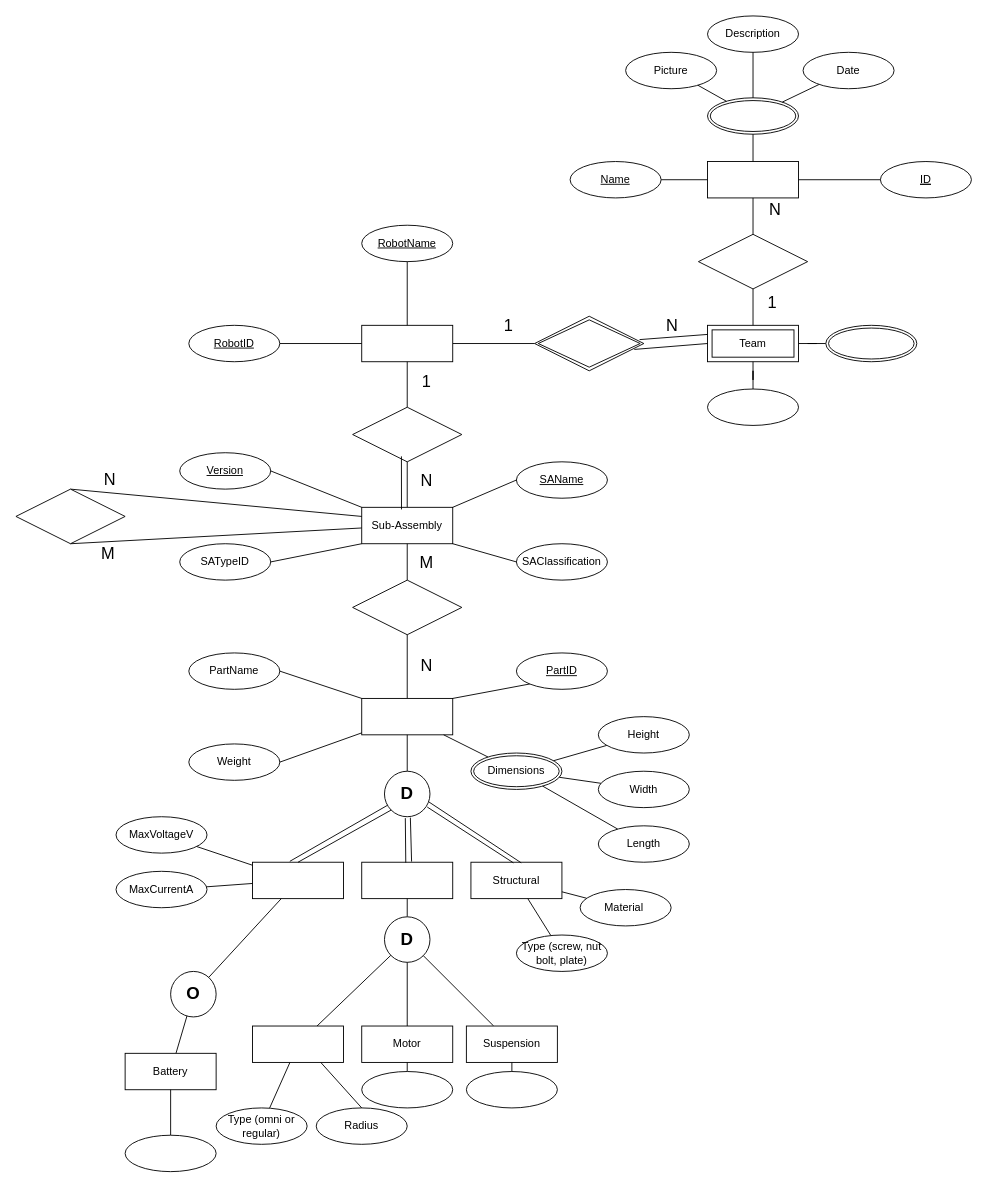
The diagram is 987 pixels wide and 1188 high, and some of its shapes have lost their labels. The shapes that lost their labels are listed below. From the top down, each one's box as (x1, y1, x2, y2) in pixels, then its label:
(707, 97, 799, 134): Progress Update
(707, 161, 799, 198): Member
(698, 233, 808, 289): IsOn
(361, 324, 453, 362): Robot
(534, 315, 644, 371): Worked on by
(825, 324, 917, 362): Managers
(707, 388, 799, 425): TeamName
(352, 406, 462, 462): Built From
(15, 488, 125, 544): IsApartOf
(352, 579, 462, 635): Contains
(361, 698, 453, 735): Part
(252, 861, 344, 899): Electronic
(361, 861, 453, 899): Mechanical
(252, 1025, 344, 1062): Wheel
(361, 1071, 453, 1108): Torque
(465, 1071, 557, 1108): Weight limit
(124, 1134, 216, 1172): CapacitymAh
